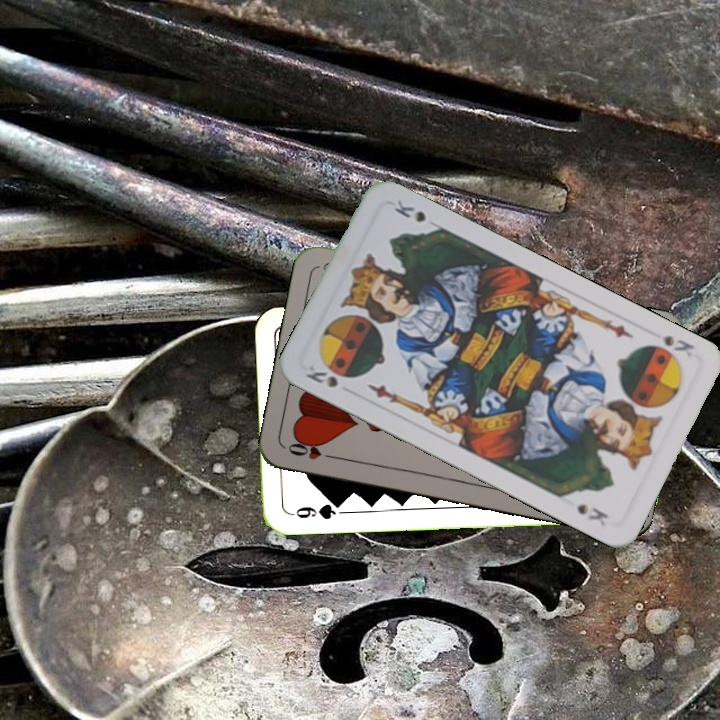G9: (286, 498, 345, 522)
HO: (284, 436, 342, 462)
SK: (301, 359, 340, 390), (658, 331, 697, 360)
